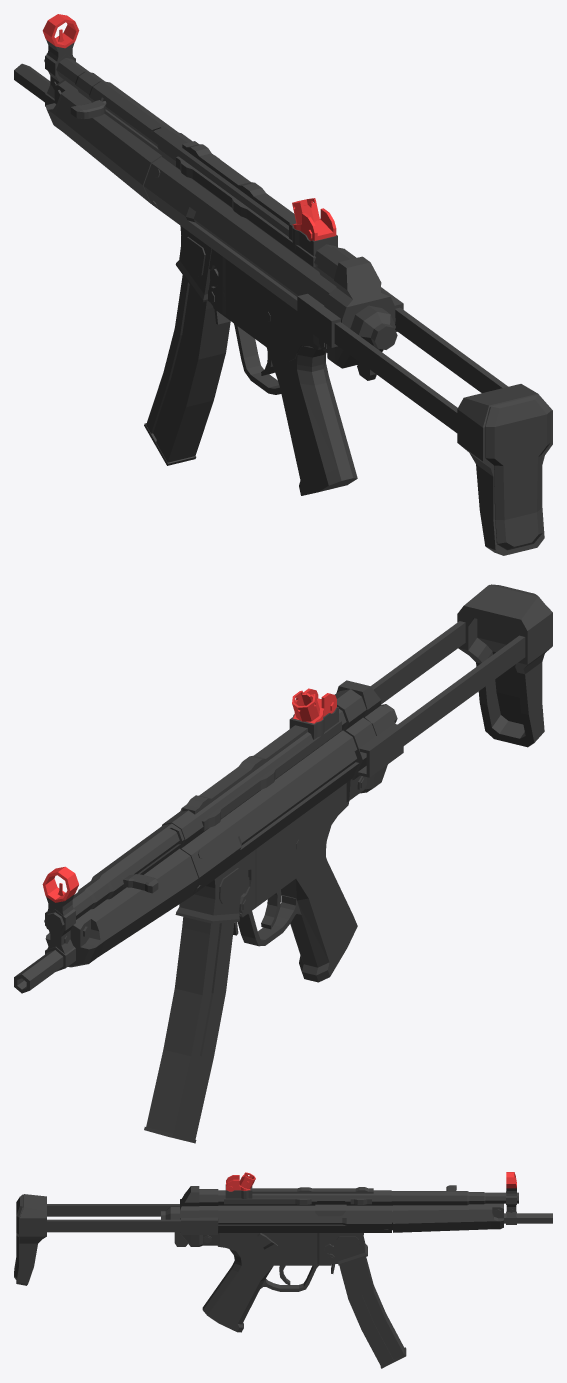
Rendered from subfusil_3.glb.
The picture shows the model from 3 angles, top to bottom: view 1: azimuth 30°, elevation 25°; view 2: azimuth 150°, elevation 25°; view 3: azimuth 270°, elevation 25°; orthographic projection. The views are drawn at different scales.
Parts seen in each view (by area): view 1: p16_paint, p15_paint, p39_paint, p62_paint, p35_paint, p1_paint, p9_paint, p61_paint, p50_paint, p58_paint, p57_paint, p22_paint (+10 smaller); view 2: p15_paint, p61_paint, p16_paint, p9_paint, p39_paint, p1_paint, p35_paint, p58_paint, p57_paint, p22_paint, p25_paint, p24_paint (+8 smaller); view 3: p16_paint, p15_paint, p1_paint, p9_paint, p39_paint, p35_paint, p61_paint, p57_paint, p58_paint, p50_paint, p22_paint, p53_paint (+11 smaller).
Part boxes in pixels (x1,y1,x2,y2): p16_paint: (143,156,320,310); p15_paint: (146,275,230,462); p39_paint: (213,306,357,495); p62_paint: (485,395,550,550); p35_paint: (208,249,321,361); p1_paint: (44,53,336,271); p9_paint: (45,79,161,203); p61_paint: (457,384,552,555); p50_paint: (313,256,395,368); p58_paint: (334,322,457,432); p57_paint: (395,307,508,392); p22_paint: (182,141,295,225); p15_paint: (146,917,234,1139); p61_paint: (457,585,552,747); p16_paint: (180,730,359,896); p9_paint: (45,848,198,967); p39_paint: (239,843,357,982); p1_paint: (44,709,346,932); p35_paint: (239,783,349,913); p58_paint: (398,635,525,745); p57_paint: (370,621,465,704); p22_paint: (182,725,307,814); p25_paint: (175,857,245,923); p24_paint: (201,720,341,830); p16_paint: (218,1205,391,1232); p15_paint: (339,1257,404,1366); p1_paint: (218,1190,518,1205); p9_paint: (392,1203,503,1232); p39_paint: (202,1248,332,1332); p35_paint: (217,1233,335,1264); p61_paint: (16,1194,46,1285); p57_paint: (47,1219,180,1232); p58_paint: (47,1204,179,1216); p50_paint: (179,1186,219,1246); p22_paint: (252,1187,373,1193); p53_paint: (181,1217,217,1234).
Bounding box in the file's own units: 0.0604 × 0.2682 × 0.68.
